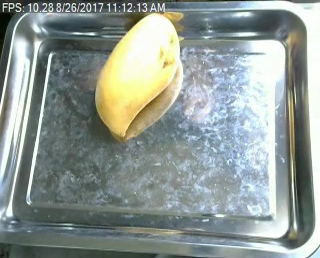Mango: (88, 12, 180, 141)
